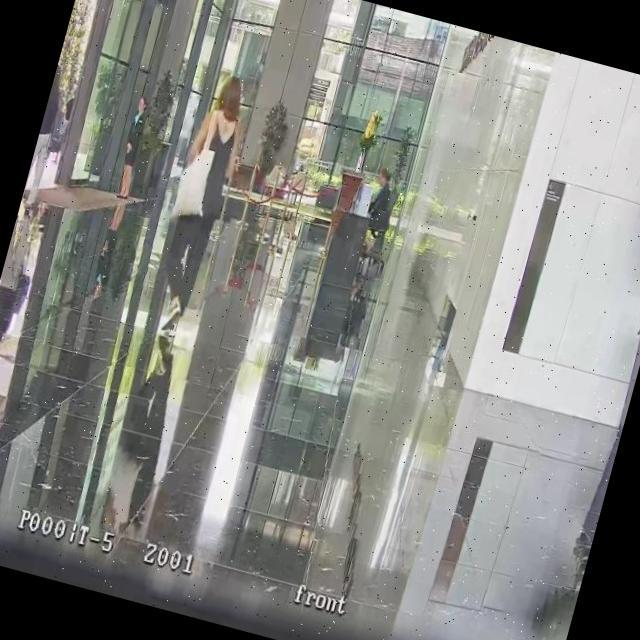person: (145, 70, 261, 325), (18, 64, 71, 212), (110, 94, 156, 204), (364, 166, 397, 230), (49, 95, 74, 164)
